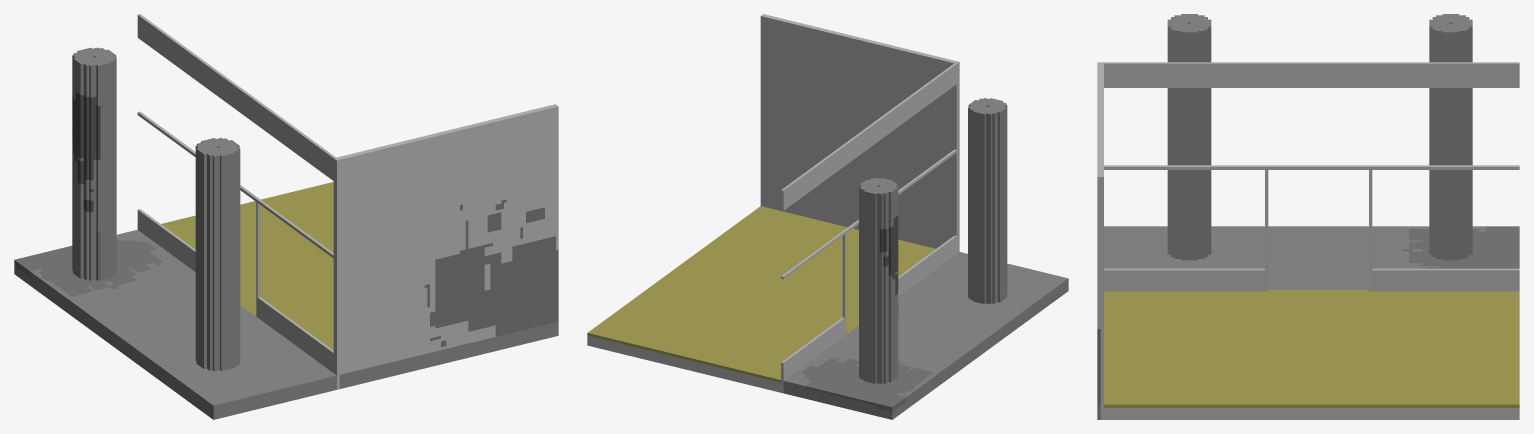
File: 2x2 first (1)-1.obj
3 views of the same model, side by side, from view 1: azimuth 30°, elevation 25°; view 2: azimuth 150°, elevation 25°; view 3: azimuth 270°, elevation 25° (orthographic). The views are drawn at different scales.
Visible parts, largest first — view 1: 2x2 first (1)-1; view 2: 2x2 first (1)-1; view 3: 2x2 first (1)-1.
Boxes of the visible parts, <box> form: 2x2 first (1)-1: <box>14,14,558,419</box>; 2x2 first (1)-1: <box>587,14,1068,419</box>; 2x2 first (1)-1: <box>1097,14,1519,419</box>.
Size of the model in its own units: 126 by 80 by 126.
Materials: 1 (1 with a texture image).
